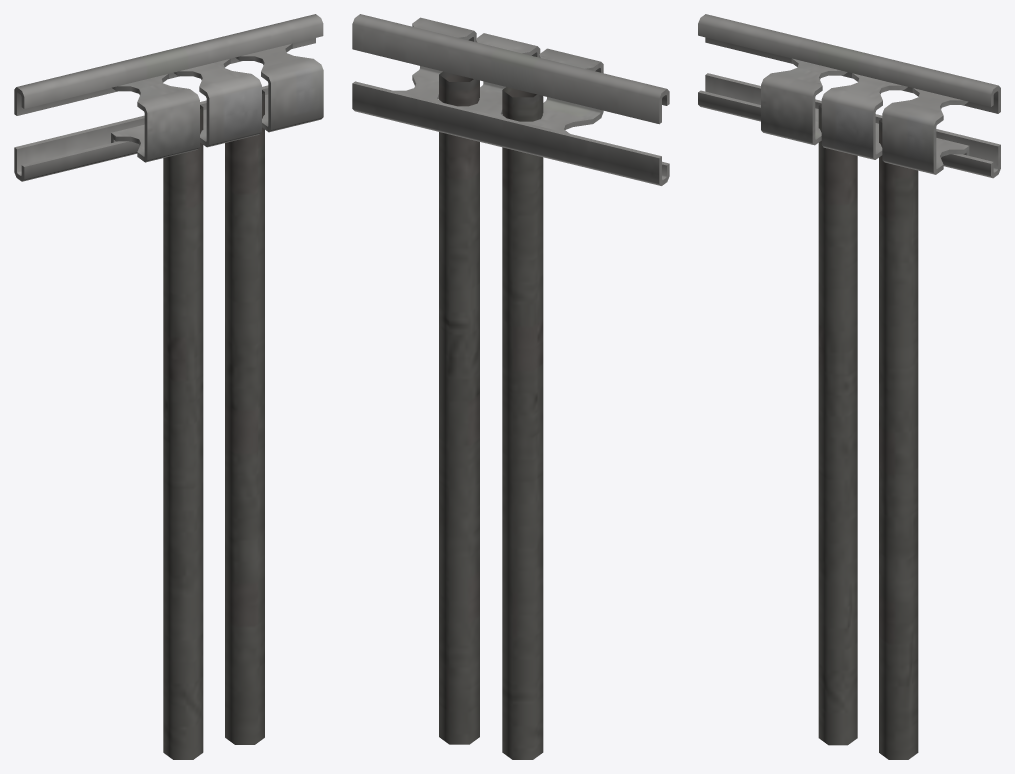
The model's file is cable_double_alt_short.gltf.
3 views of the same model, side by side, from view 1: azimuth 30°, elevation 25°; view 2: azimuth 150°, elevation 25°; view 3: azimuth 330°, elevation 25° (orthographic). The views are drawn at different scales.
Parts seen in each view (by area): view 1: cable_double_alt_short; view 2: cable_double_alt_short; view 3: cable_double_alt_short.
Part boxes in pixels (<box>): cable_double_alt_short: <box>14,14,323,759</box>; cable_double_alt_short: <box>352,14,669,759</box>; cable_double_alt_short: <box>698,14,1000,759</box>.
Bounding box in the file's own units: 0.097 × 0.2141 × 0.0221.
1 material, 1 textured.
